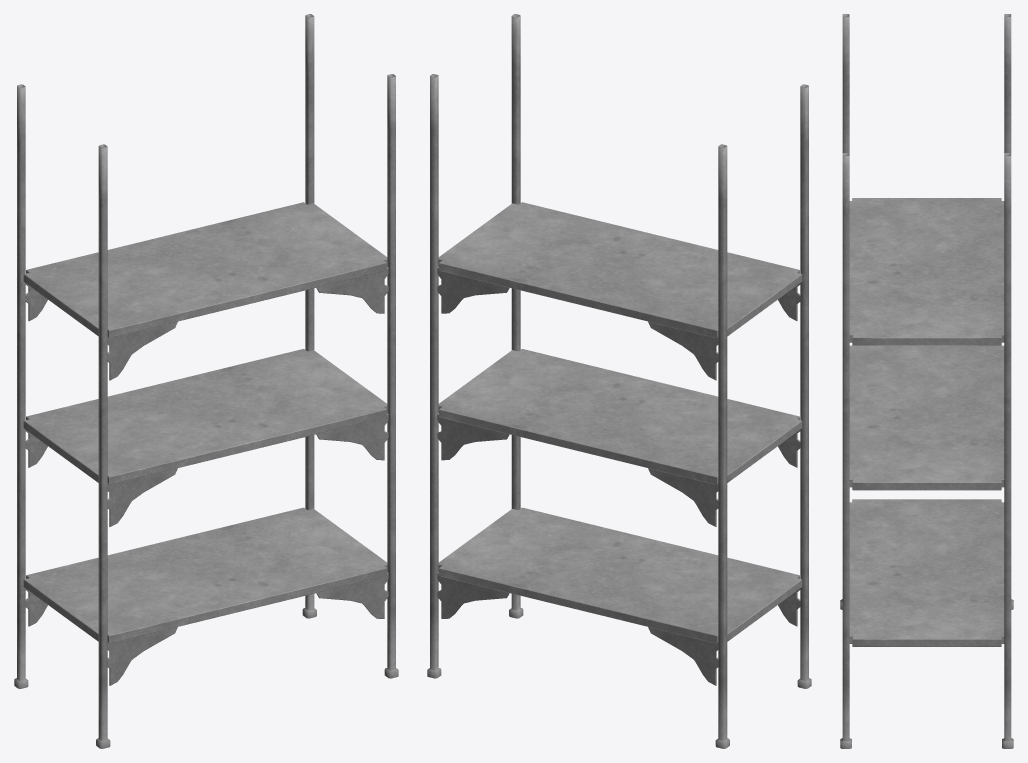
File: Metal_Shelf_Prefab.fbx
3 renders of one model, left to right at view 1: azimuth 30°, elevation 25°; view 2: azimuth 150°, elevation 25°; view 3: azimuth 270°, elevation 25°, orthographic.
Visible parts, largest first — view 1: ShelvingUnitShelf_1_low.003, ShelvingUnitShelf_1_low.001, ShelvingUnitShelf_1_low.002, ShelvingUnit_poles_Square_low.001, Bracket_low.003, Bracket_low.002, Bracket_low.001; view 2: ShelvingUnitShelf_1_low.003, ShelvingUnitShelf_1_low.001, ShelvingUnitShelf_1_low.002, ShelvingUnit_poles_Square_low.001, Bracket_low.003, Bracket_low.002, Bracket_low.001; view 3: ShelvingUnitShelf_1_low.002, ShelvingUnitShelf_1_low.003, ShelvingUnitShelf_1_low.001, ShelvingUnit_poles_Square_low.001.
Boxes of the visible parts, x1,y1,x2,y2 form: ShelvingUnitShelf_1_low.003: (23,202,387,338); ShelvingUnitShelf_1_low.001: (23,349,387,484); ShelvingUnitShelf_1_low.002: (23,507,387,643); ShelvingUnit_poles_Square_low.001: (14,14,398,748); Bracket_low.003: (25,267,388,380); Bracket_low.002: (25,572,388,685); Bracket_low.001: (25,414,388,526); ShelvingUnitShelf_1_low.003: (438,202,802,338); ShelvingUnitShelf_1_low.001: (438,349,802,484); ShelvingUnitShelf_1_low.002: (438,507,802,643); ShelvingUnit_poles_Square_low.001: (427,14,811,748); Bracket_low.003: (437,267,800,380); Bracket_low.002: (437,572,800,685); Bracket_low.001: (437,414,800,526); ShelvingUnitShelf_1_low.002: (849,499,1004,646); ShelvingUnitShelf_1_low.003: (849,198,1004,345); ShelvingUnitShelf_1_low.001: (849,345,1004,490); ShelvingUnit_poles_Square_low.001: (840,14,1013,748).
Bounding box in the file's own units: 94.74 × 182 × 48.24.
